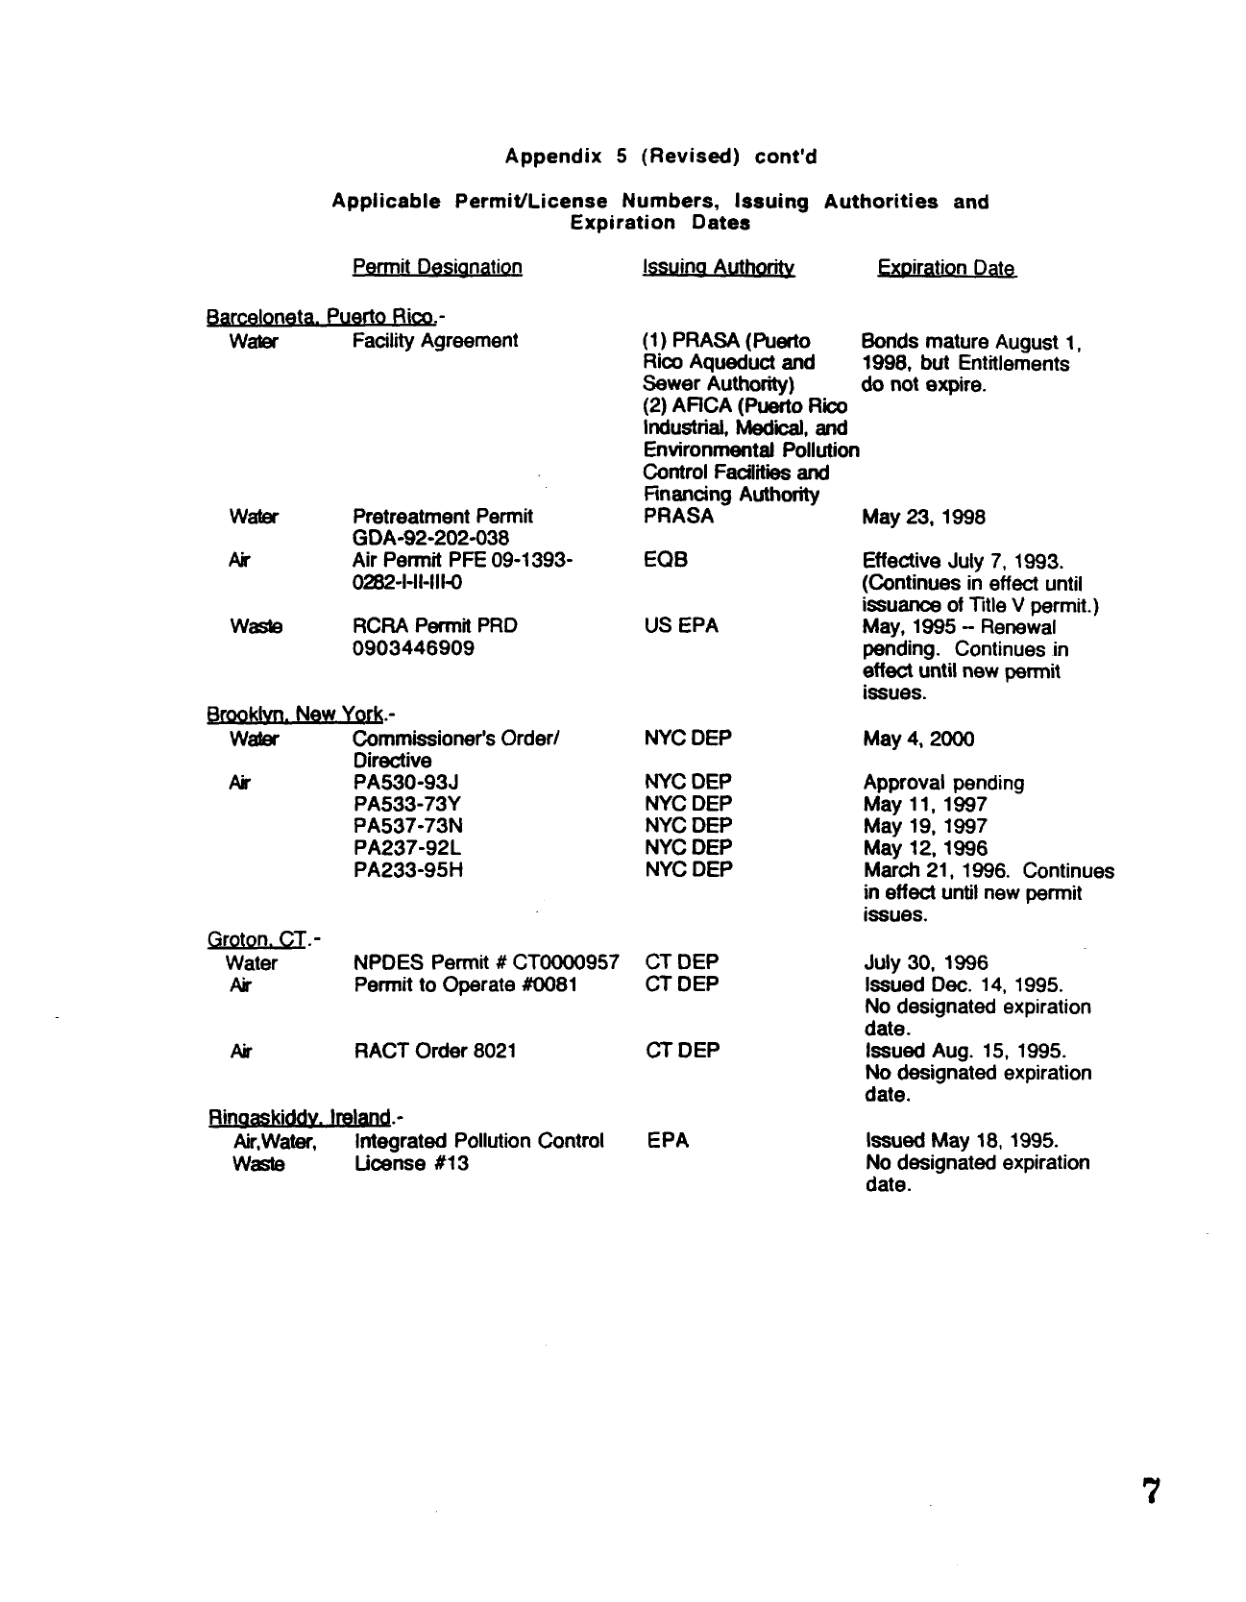nolines: (203, 254, 1116, 1205)
